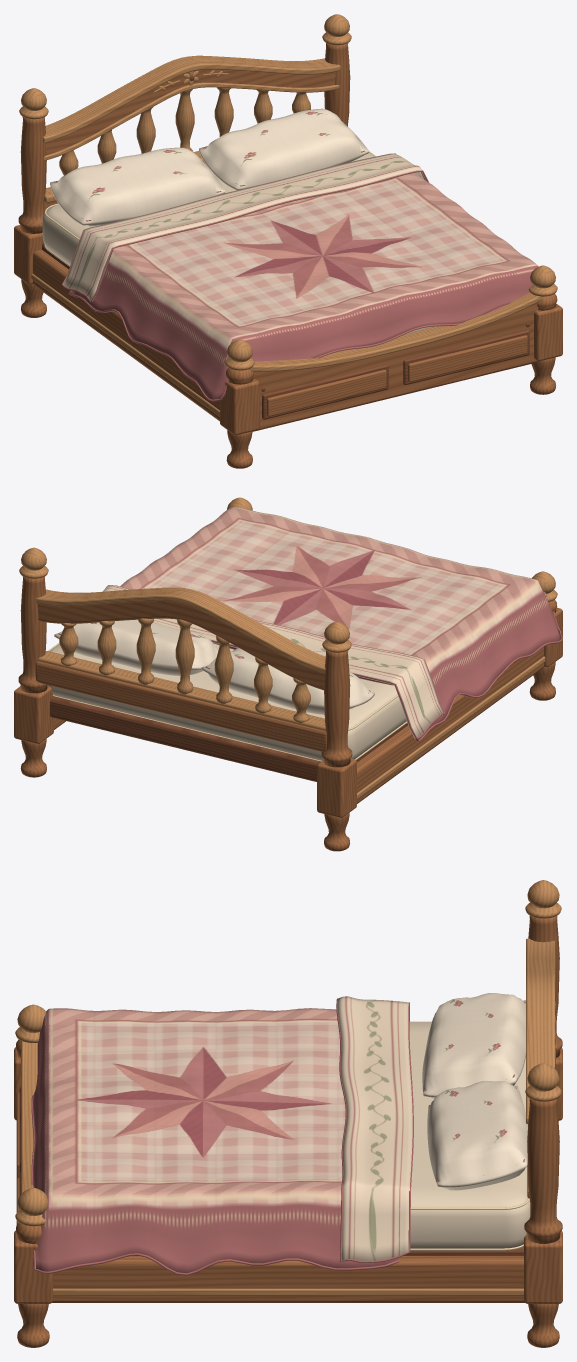
Rendered from SM_BunkerBed.fbx.
The picture shows the model from 3 angles, top to bottom: view 1: azimuth 30°, elevation 25°; view 2: azimuth 150°, elevation 25°; view 3: azimuth 270°, elevation 25°; orthographic projection. The views are drawn at different scales.
Parts seen in each view (by area): view 1: SM_BunkerBed; view 2: SM_BunkerBed; view 3: SM_BunkerBed.
Part boxes in pixels (left/top/right/bottom): SM_BunkerBed: left=14, top=14, right=562, bottom=468; SM_BunkerBed: left=14, top=497, right=562, bottom=851; SM_BunkerBed: left=14, top=880, right=562, bottom=1347.
Bounding box in the file's own units: 187 × 201 × 113.
Materials: 1 (1 with a texture image).
